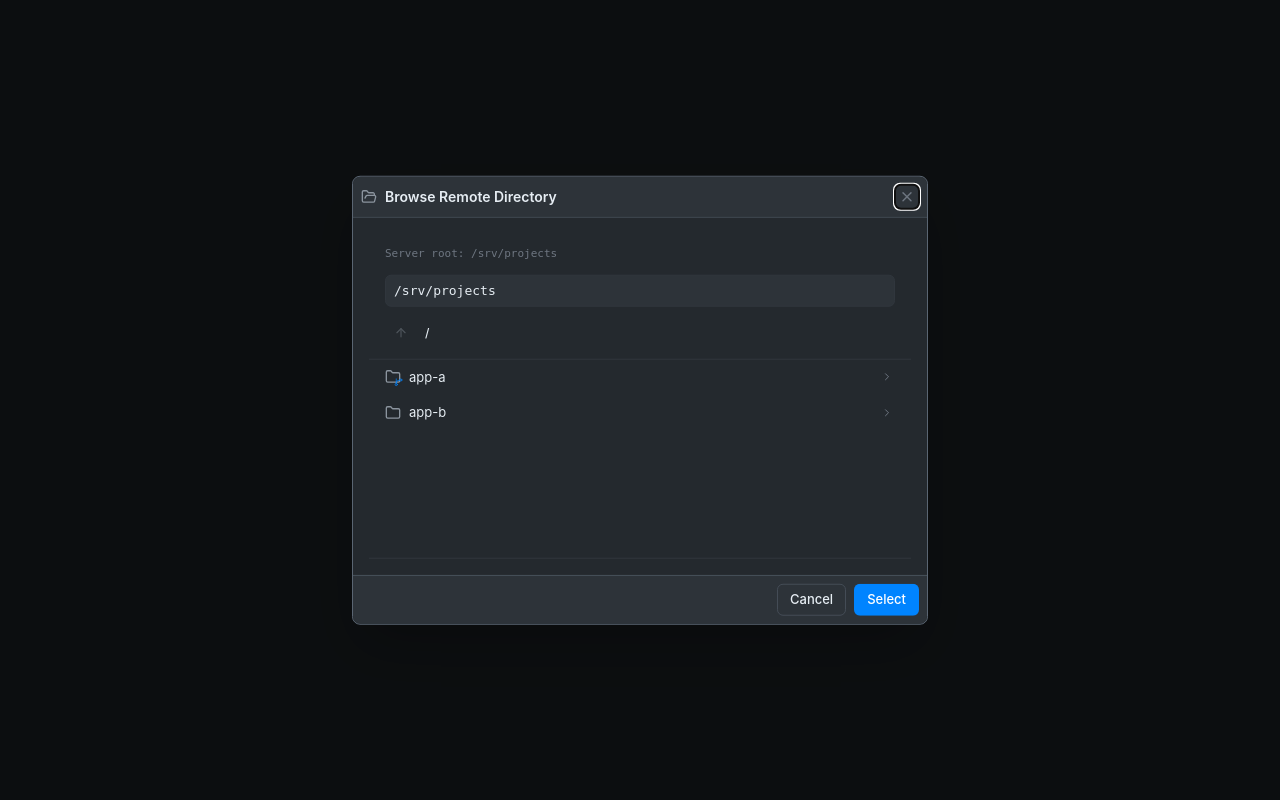
Test: RemoteFileBrowserDialog › navigates into a directory via the chevron open button
Click the button with test id "dir-entry-open-app-a" at point(887, 377), box 879,369 -> 895,385
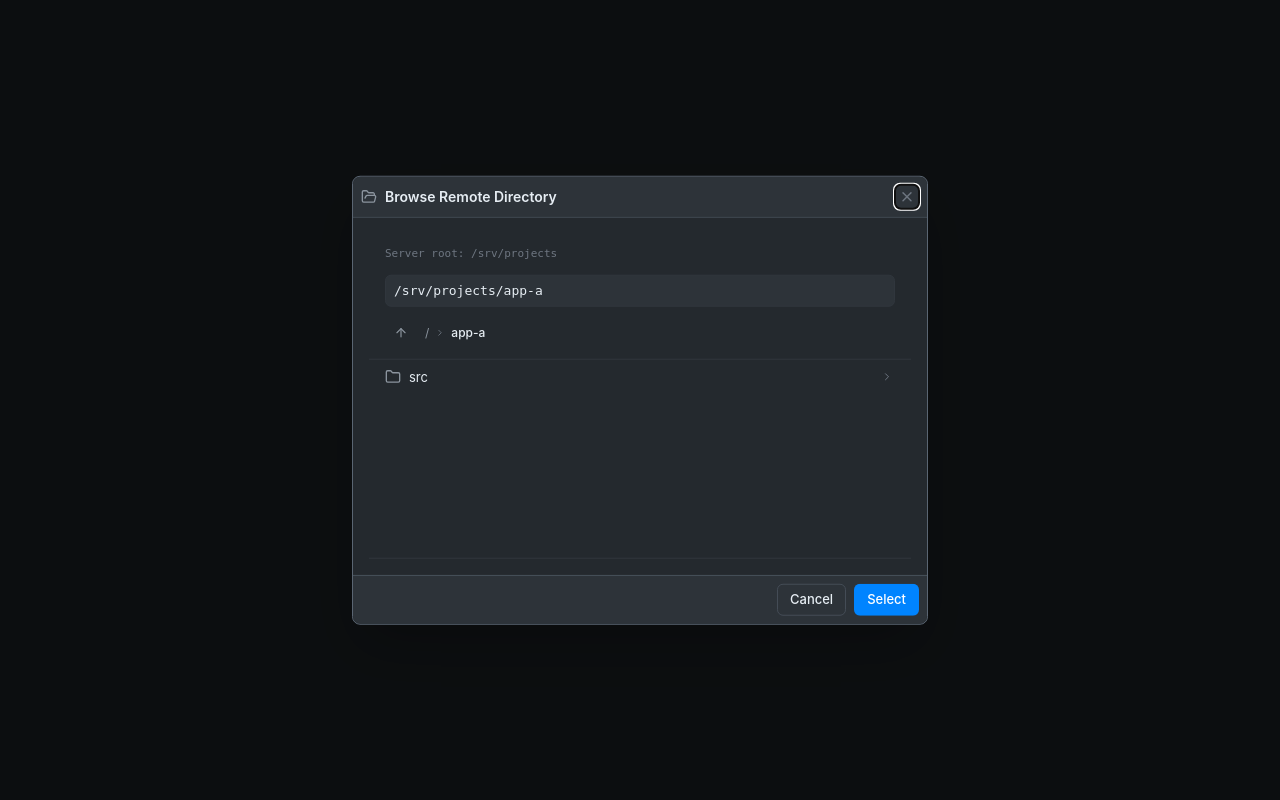
Expected: the text "src" is shown, 409,367 -> 428,387
